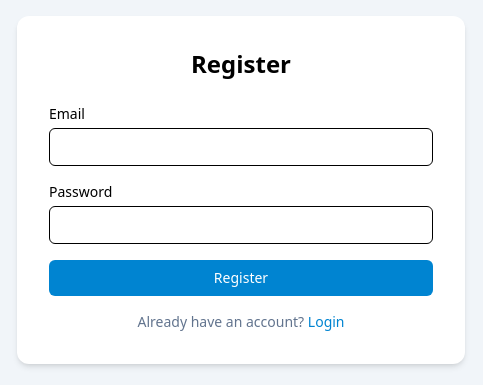
it: RegisterPage (MSW) › registers successfully and redirects to /login
Type "newuser@example.com" into the field labelled "Email". click: (241, 147)
box: [49,128,433,166]
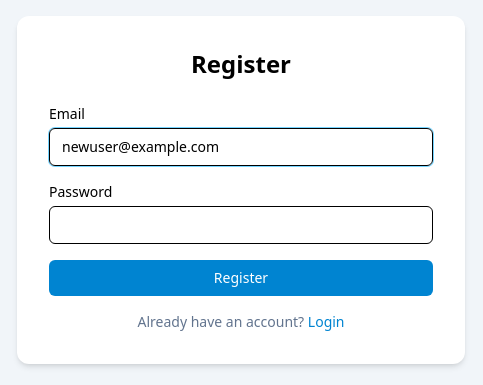
Type "password123" into the password field labelled "Password". click: (241, 225)
box: [49,206,433,244]
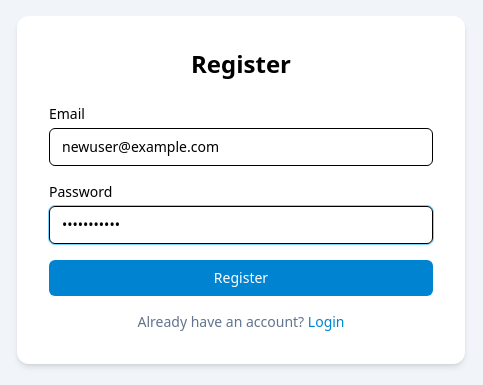
Click the button "Register". click: (241, 278)
box: [49,260,433,296]
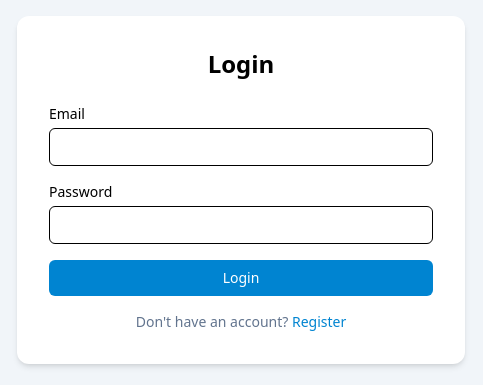
Expected: the button "Login" is shown, [49,260,433,296]
